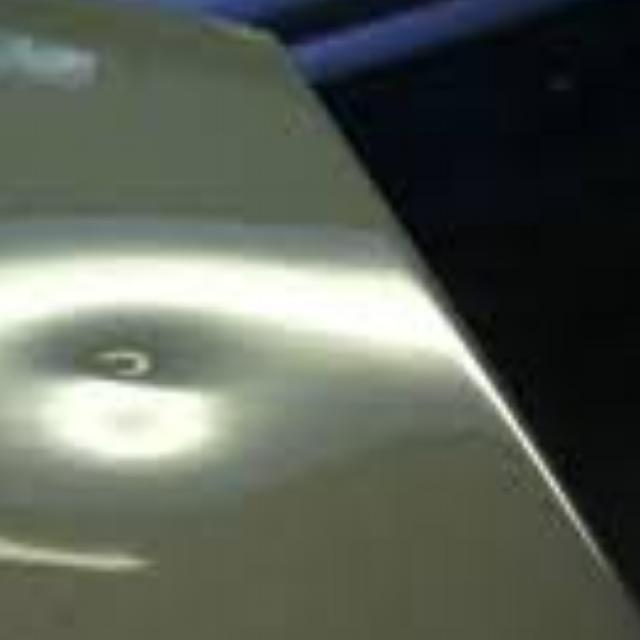dents: (24, 270, 301, 498)
